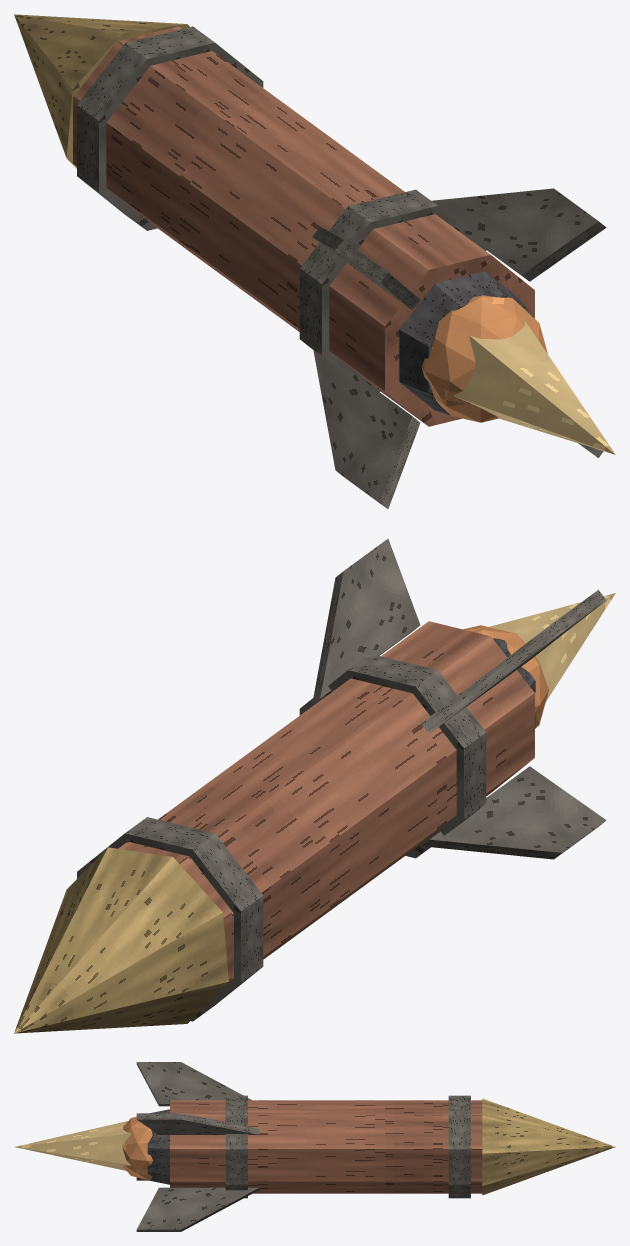
File: proj_cinder_rocket.gltf
3 views of the same model, one above another, from view 1: azimuth 30°, elevation 25°; view 2: azimuth 150°, elevation 25°; view 3: azimuth 270°, elevation 25° (orthographic). The views are drawn at different scales.
Visible parts, largest first — view 1: body, glow; view 2: body, glow; view 3: body, glow.
Boxes of the visible parts, <box> form: body: <box>14,14,606,509</box>; glow: <box>421,295,615,454</box>; body: <box>14,538,606,1033</box>; glow: <box>463,593,615,728</box>; body: <box>136,1062,615,1231</box>; glow: <box>15,1116,152,1179</box>.
Size of the model in its own units: 0.1174 by 0.1174 by 0.54.
Materials: 2 (2 with a texture image).
